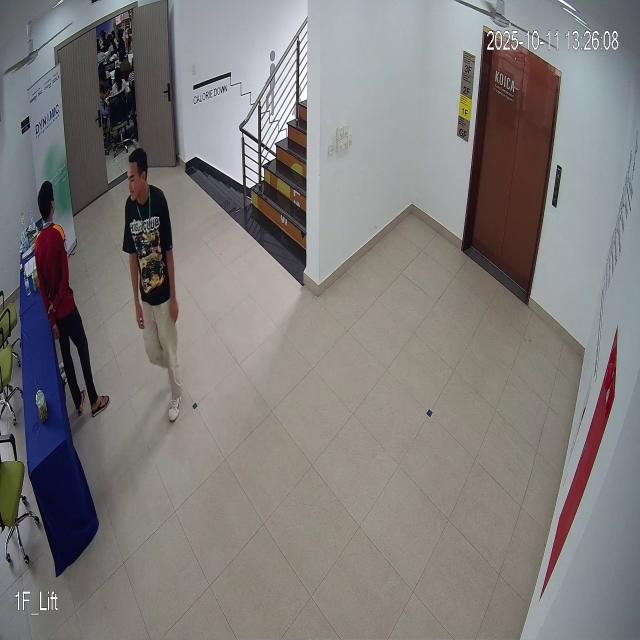face: (127, 144, 149, 205)
